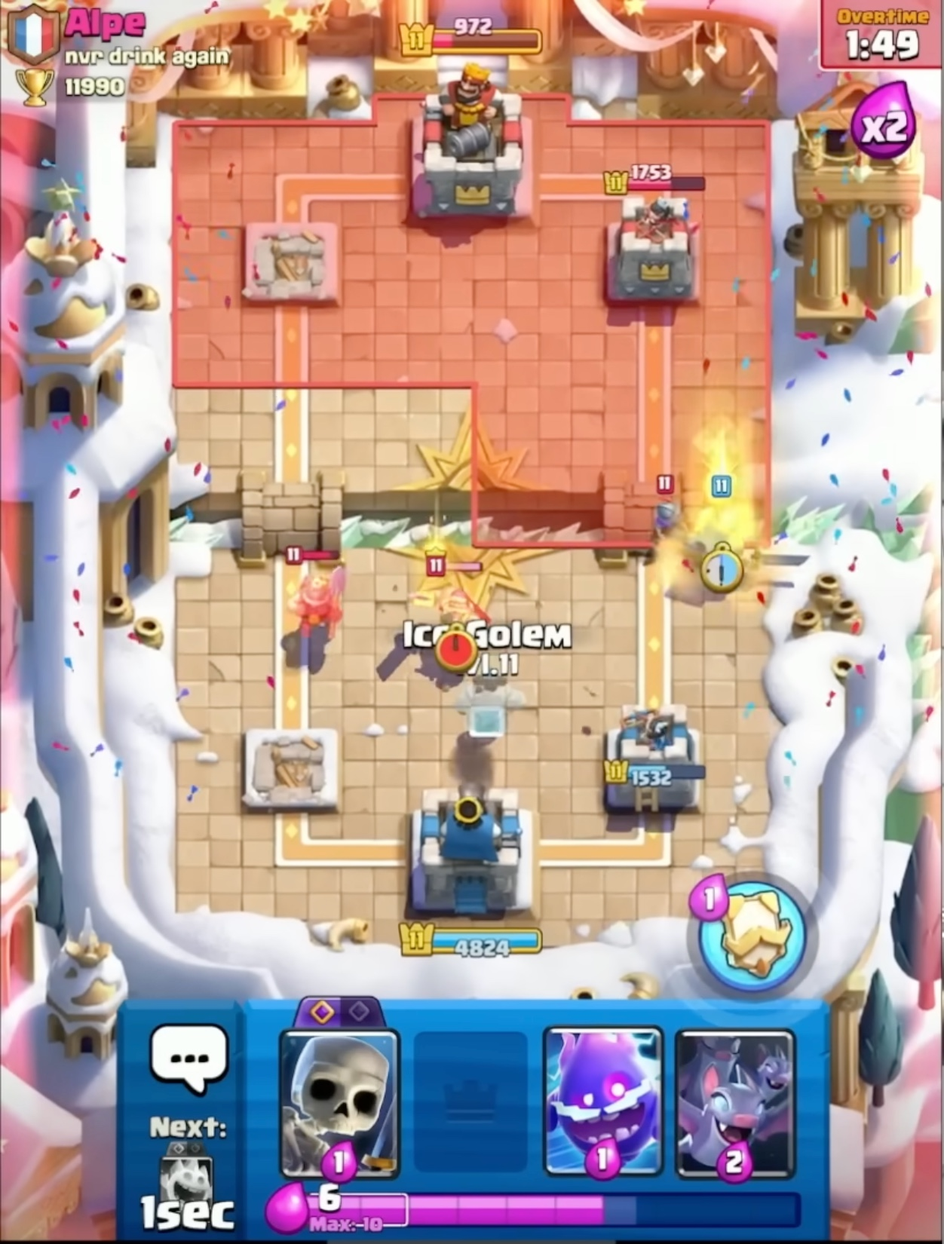hero-knight: (410, 541, 498, 660)
miner: (271, 542, 355, 652)
musketeer: (642, 459, 701, 576)
